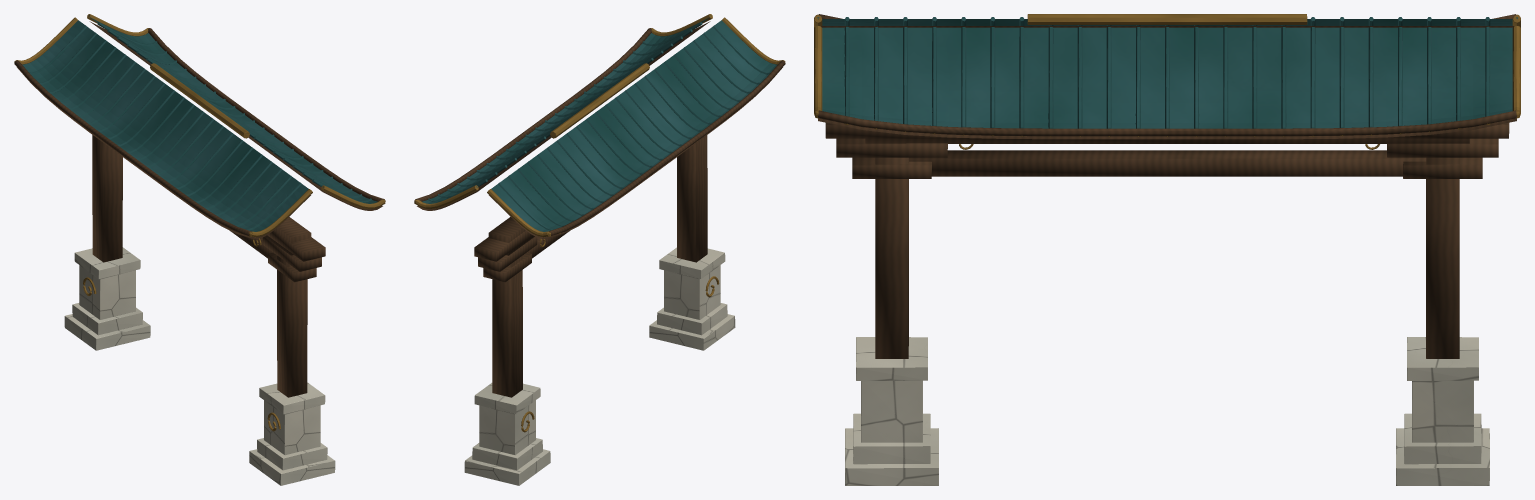
File: a02_gateway_lod1.fbx
3 renders of one model, left to right at view 1: azimuth 30°, elevation 25°; view 2: azimuth 150°, elevation 25°; view 3: azimuth 270°, elevation 25°, orthographic. The views are drawn at different scales.
Visible parts, largest first — view 1: a02_gateway.004; view 2: a02_gateway.004; view 3: a02_gateway.004.
Boxes of the visible parts, box(x1,y1,x2,y2) form: a02_gateway.004: box(14, 14, 385, 485); a02_gateway.004: box(414, 14, 785, 485); a02_gateway.004: box(814, 14, 1520, 485).
Size of the model in its own units: 84177 by 28177 by 59368.
